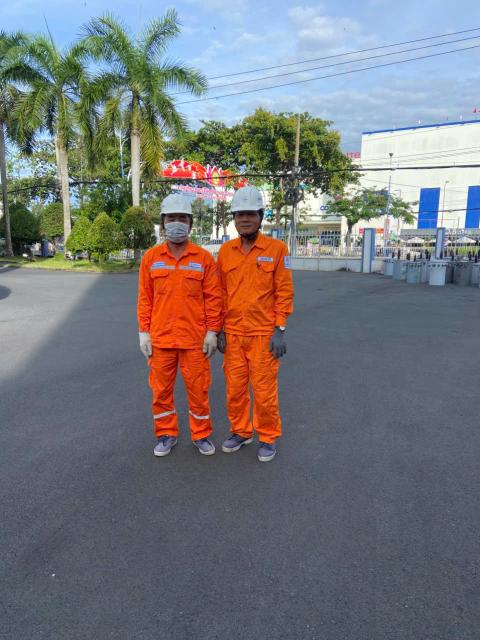gloves: (268, 321, 297, 358), (208, 317, 234, 354), (132, 329, 164, 358), (201, 327, 219, 356)
helmet: (222, 180, 272, 212), (153, 191, 202, 221)
shoes: (255, 424, 285, 468), (152, 418, 184, 459), (212, 422, 253, 453), (193, 428, 219, 461)
